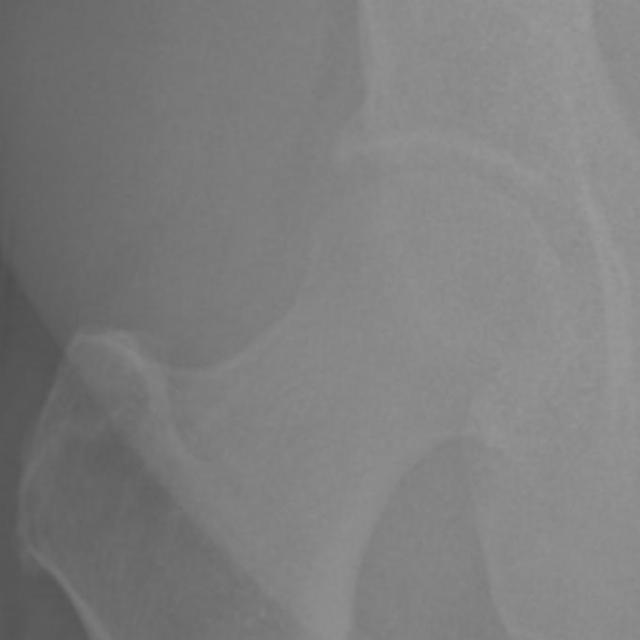Fitted_femural_head: (286, 173, 432, 286)
